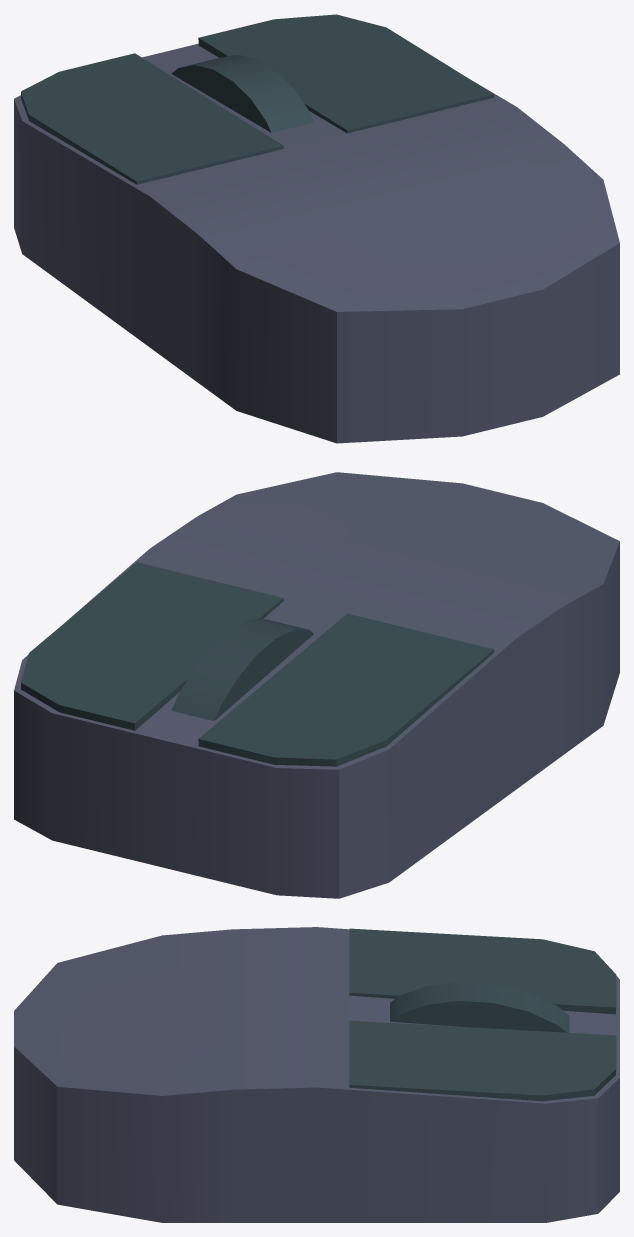
The model's file is 3computer mouse.fbx.
3 renders of one model, top to bottom at view 1: azimuth 30°, elevation 25°; view 2: azimuth 150°, elevation 25°; view 3: azimuth 270°, elevation 25°, orthographic. The views are drawn at different scales.
Parts seen in each view (by area): view 1: 3computer mouse; view 2: 3computer mouse; view 3: 3computer mouse.
Part boxes in pixels (x1=…): 3computer mouse: x1=14, y1=14, x2=619, y2=443; 3computer mouse: x1=14, y1=472, x2=619, y2=898; 3computer mouse: x1=14, y1=927, x2=619, y2=1222.
Bounding box in the file's own units: 3.15 × 1.38 × 5.02.
